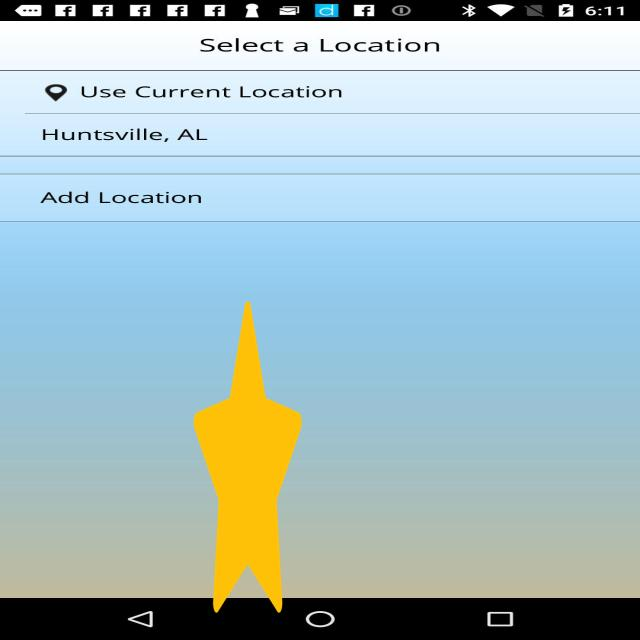forced continuity: (194, 301, 302, 613)
